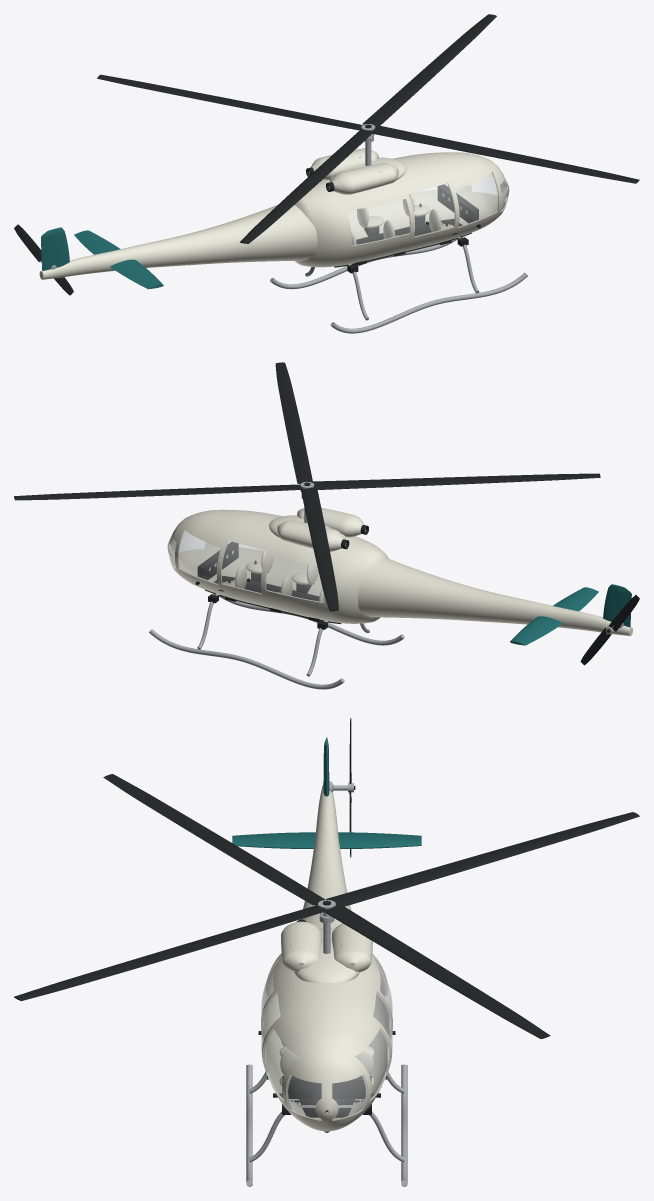
File: helicopter-assembly.glb
3 renders of one model, top to bottom at view 1: azimuth 30°, elevation 25°; view 2: azimuth 150°, elevation 25°; view 3: azimuth 270°, elevation 25°, orthographic. The views are drawn at different scales.
Parts seen in each view (by area): view 1: Hollow cabin shell with actual window openings, Tapered closed tail boom, Main rotor finite twisted airfoil blade 3, Fitted finite cabin glazing 1 side -1, Main rotor finite twisted airfoil blade 4, Main rotor finite twisted airfoil blade 1, Main rotor finite twisted airfoil blade 2, Fitted finite cabin glazing 2 side -1, Fitted finite cabin glazing 3 side -1, Closed engine pod -1, Through boom horizontal stabilizer, Curved landing skid -1 (+5 smaller); view 2: Hollow cabin shell with actual window openings, Tapered closed tail boom, Main rotor finite twisted airfoil blade 2, Main rotor finite twisted airfoil blade 1, Fitted finite cabin glazing 1 side 1, Main rotor finite twisted airfoil blade 4, Main rotor finite twisted airfoil blade 3, Fitted finite cabin glazing 2 side 1, Fitted finite cabin glazing 3 side 1, Through boom horizontal stabilizer, Curved landing skid 1, Closed engine pod 1 (+5 smaller); view 3: Hollow cabin shell with actual window openings, Main rotor finite twisted airfoil blade 1, Main rotor finite twisted airfoil blade 4, Main rotor finite twisted airfoil blade 3, Tapered closed tail boom, Main rotor finite twisted airfoil blade 2, Through boom horizontal stabilizer, Closed engine pod -1, Closed engine pod 1, Finite instrument panel, Seated upper transmission fairing, Fitted finite cabin glazing 3 side -1 (+6 smaller).
Part boxes in pixels (<box>): Hollow cabin shell with actual window openings: <box>295,152,509,267</box>; Tapered closed tail boom: <box>39,205,317,279</box>; Main rotor finite twisted airfoil blade 3: <box>372,125,639,183</box>; Fitted finite cabin glazing 1 side -1: <box>346,199,410,245</box>; Main rotor finite twisted airfoil blade 4: <box>362,14,496,126</box>; Main rotor finite twisted airfoil blade 1: <box>97,74,362,130</box>; Main rotor finite twisted airfoil blade 2: <box>240,129,373,243</box>; Fitted finite cabin glazing 2 side -1: <box>409,183,454,236</box>; Fitted finite cabin glazing 3 side -1: <box>456,172,498,227</box>; Closed engine pod -1: <box>329,163,398,194</box>; Through boom horizontal stabilizer: <box>74,230,163,289</box>; Curved landing skid -1: <box>330,272,527,333</box>; Hollow cabin shell with actual window openings: <box>167,509,388,623</box>; Tapered closed tail boom: <box>357,558,632,635</box>; Main rotor finite twisted airfoil blade 2: <box>312,473,600,489</box>; Main rotor finite twisted airfoil blade 1: <box>301,487,338,611</box>; Fitted finite cabin glazing 1 side 1: <box>265,556,323,602</box>; Main rotor finite twisted airfoil blade 4: <box>14,484,302,500</box>; Main rotor finite twisted airfoil blade 3: <box>275,362,312,483</box>; Fitted finite cabin glazing 2 side 1: <box>221,540,266,593</box>; Fitted finite cabin glazing 3 side 1: <box>178,530,220,584</box>; Through boom horizontal stabilizer: <box>510,587,598,645</box>; Curved landing skid 1: <box>149,629,344,689</box>; Closed engine pod 1: <box>277,520,346,551</box>; Hollow cabin shell with actual window openings: <box>261,928,392,1131</box>; Main rotor finite twisted airfoil blade 1: <box>326,812,639,906</box>; Main rotor finite twisted airfoil blade 4: <box>324,904,550,1038</box>; Main rotor finite twisted airfoil blade 3: <box>14,905,327,1001</box>; Tapered closed tail boom: <box>300,785,351,928</box>; Main rotor finite twisted airfoil blade 2: <box>103,774,325,905</box>; Through boom horizontal stabilizer: <box>232,832,421,848</box>; Closed engine pod -1: <box>281,921,321,972</box>; Closed engine pod 1: <box>332,923,372,972</box>; Finite instrument panel: <box>282,1076,371,1098</box>; Seated upper transmission fairing: <box>294,938,359,982</box>; Fitted finite cabin glazing 3 side -1: <box>263,1028,298,1100</box>.
Size of the model in its own units: 15.18 by 4.56 by 11.57.
11 materials, 11 textured.
